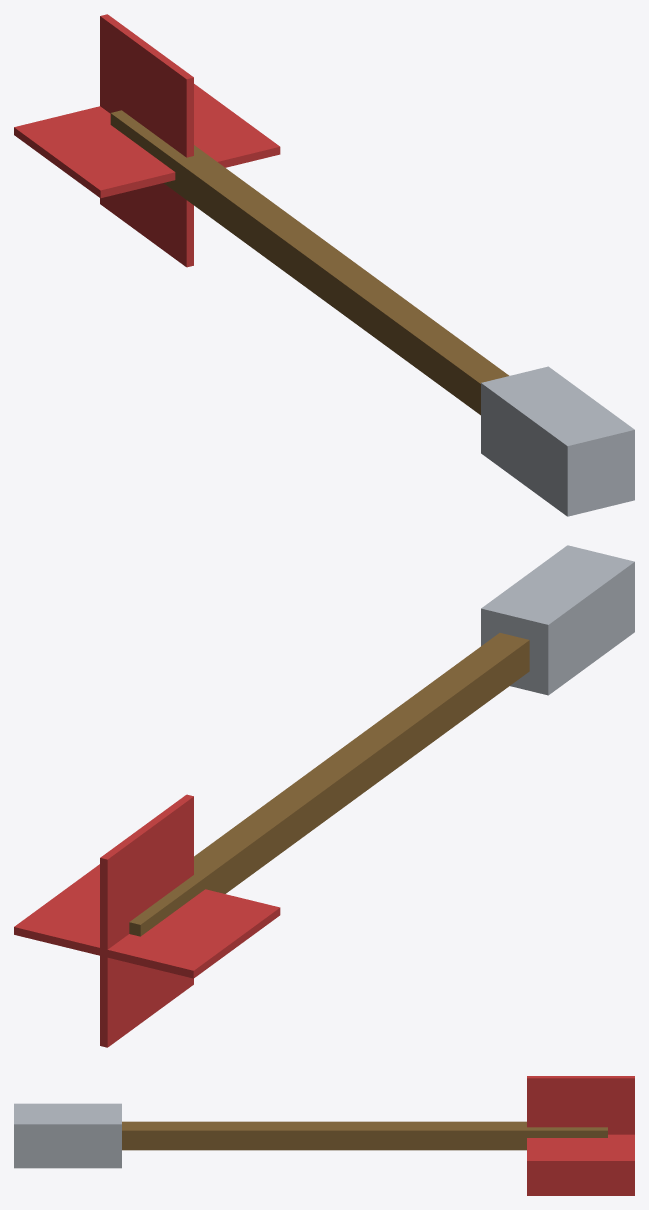
Rendered from arrow.glb.
3 views of the same model, one above another, from view 1: azimuth 30°, elevation 25°; view 2: azimuth 150°, elevation 25°; view 3: azimuth 270°, elevation 25° (orthographic). The views are drawn at different scales.
Visible parts, largest first — view 1: shaft, head, fletch.001, fletch2, fletch, fletch2.001; view 2: shaft, head, fletch.001, fletch2, fletch, fletch2.001; view 3: shaft, head, fletch.001, fletch, fletch2.001.
Boxes of the visible parts, <box> form: shaft: <box>110,110,509,415</box>; head: <box>481,366,634,516</box>; fletch.001: <box>100,14,193,157</box>; fletch2: <box>14,106,175,198</box>; fletch: <box>100,183,193,267</box>; fletch2.001: <box>194,84,280,167</box>; shaft: <box>129,633,529,936</box>; head: <box>481,545,634,695</box>; fletch.001: <box>100,794,193,953</box>; fletch2: <box>104,889,280,978</box>; fletch: <box>100,952,193,1047</box>; fletch2.001: <box>14,864,103,956</box>; shaft: <box>122,1121,607,1150</box>; head: <box>14,1103,121,1168</box>; fletch.001: <box>527,1076,634,1134</box>; fletch: <box>527,1165,634,1195</box>; fletch2.001: <box>527,1134,634,1165</box>.
Size of the model in its own units: 0.24 by 0.24 by 1.15.
